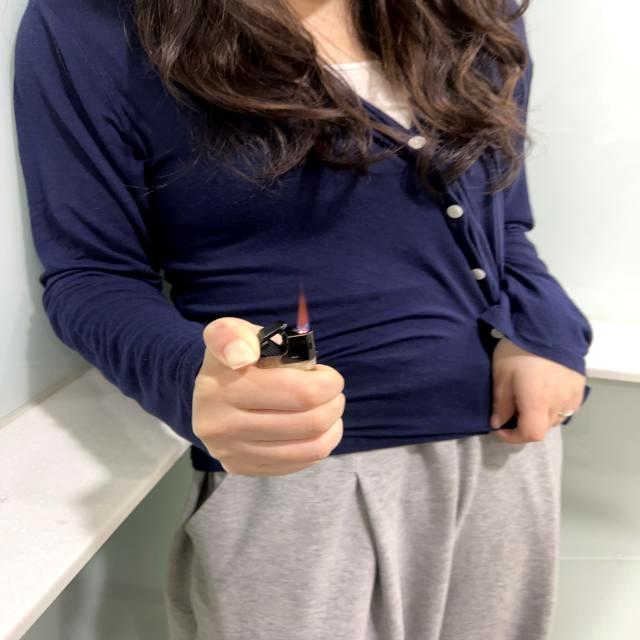fire: (296, 294, 310, 330)
